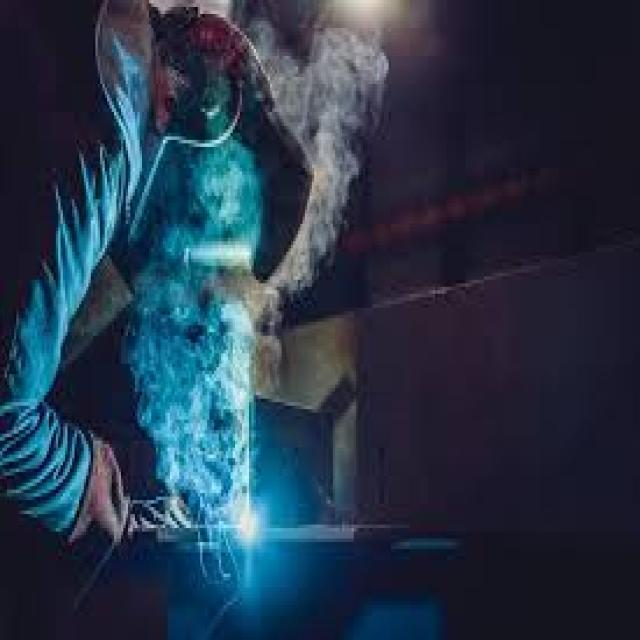welding: (235, 504, 262, 540)
